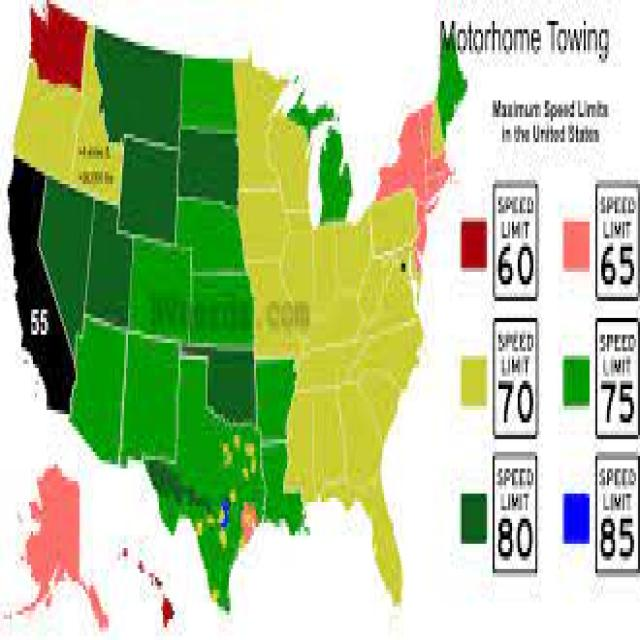speedLimit60: (489, 174, 537, 308)
speedLimit65: (596, 188, 636, 297)
speedLimit70: (488, 316, 542, 437)
speedLimit75: (595, 316, 635, 433)
speedLimit80: (489, 450, 537, 562)
speedLimit85: (595, 447, 635, 569)
